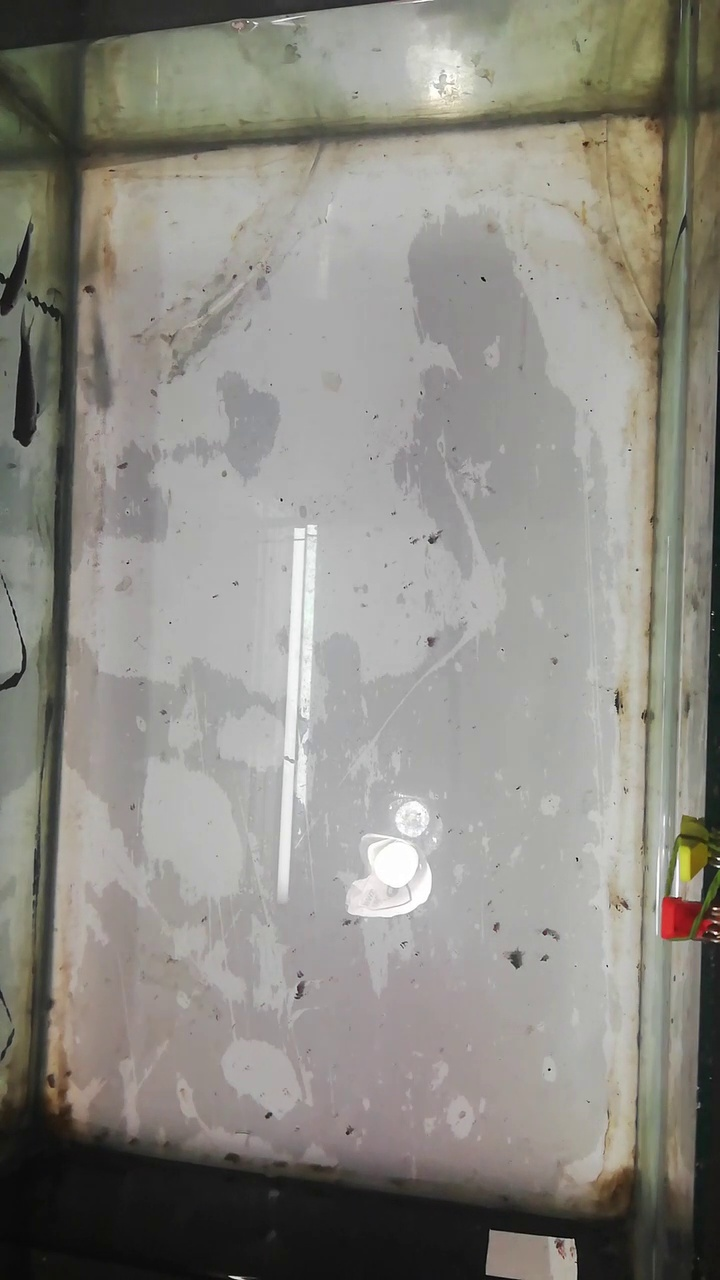fish1: (12, 318, 39, 446)
fish2: (3, 221, 34, 316)
